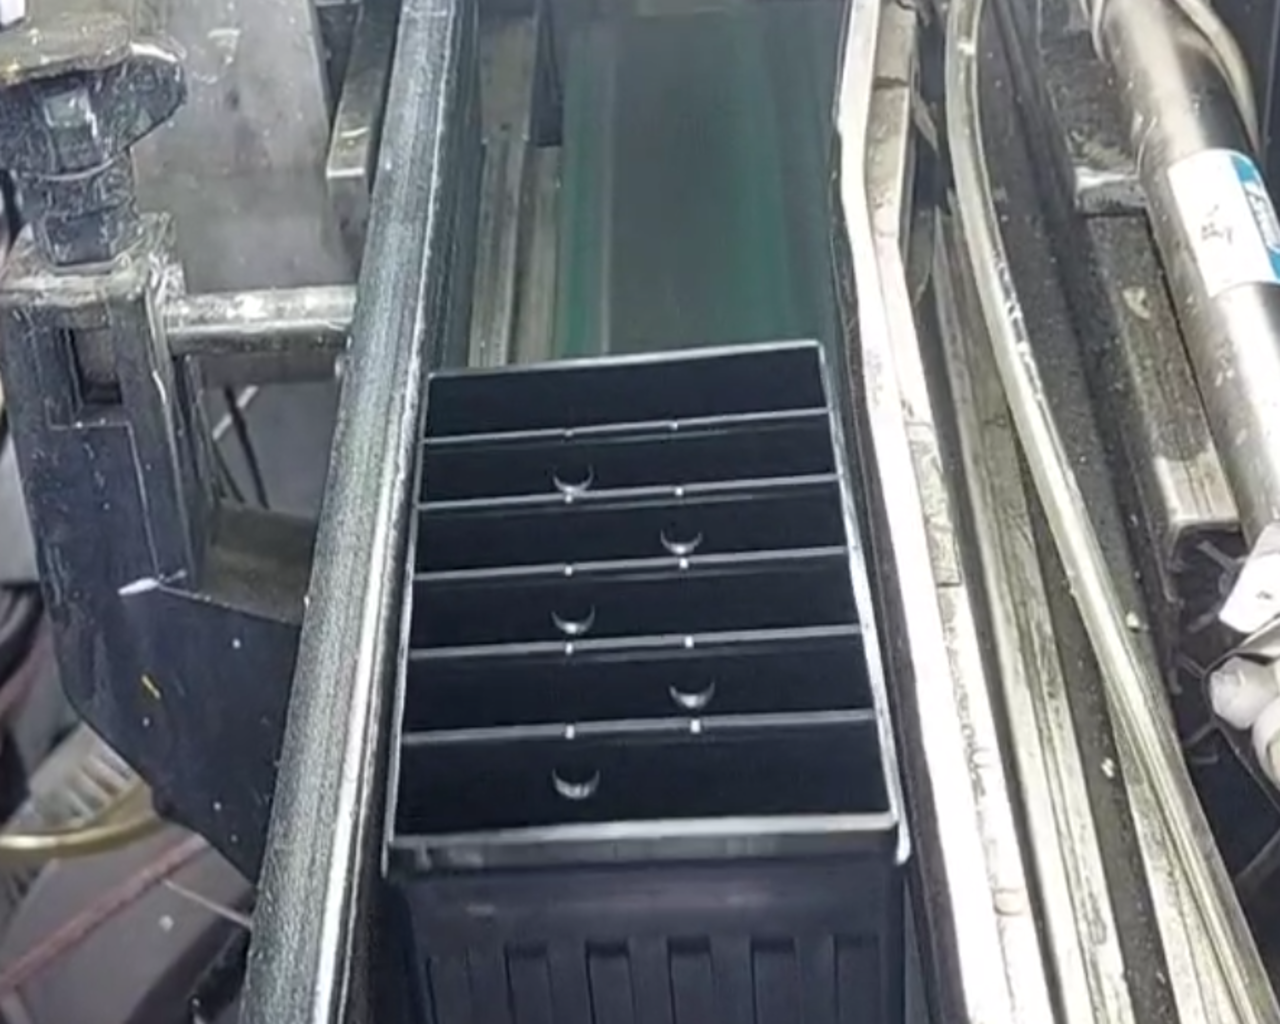box: (360, 322, 925, 891)
round: (538, 743, 611, 807), (537, 584, 609, 646), (644, 509, 720, 562), (659, 659, 728, 717), (535, 447, 610, 499)
